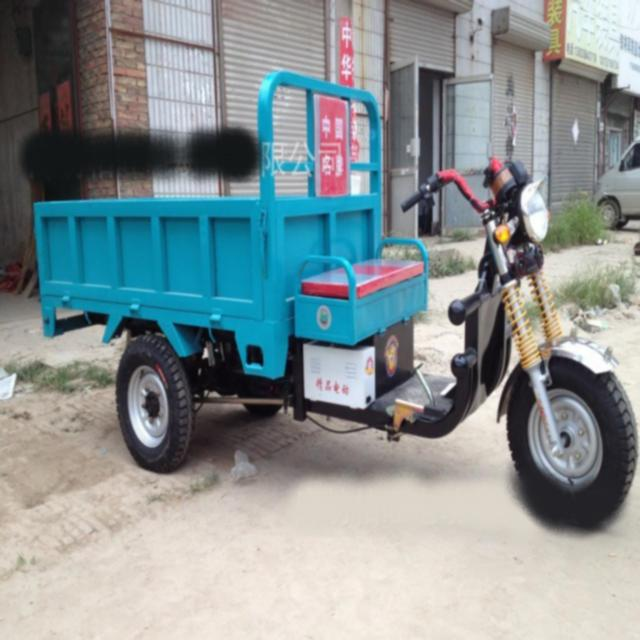car: (592, 132, 640, 229)
tricycle: (32, 70, 638, 532)
